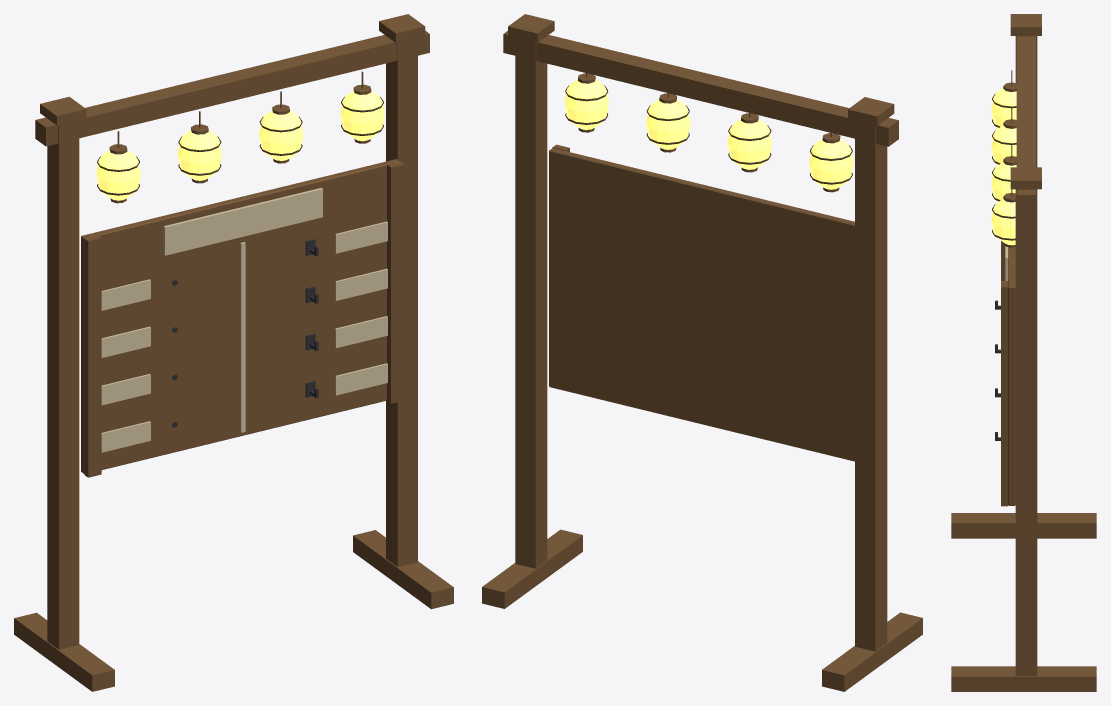
The model's file is Prop_YTM_LanternBoard.glb.
The picture shows the model from 3 angles, left to right: view 1: azimuth 30°, elevation 25°; view 2: azimuth 150°, elevation 25°; view 3: azimuth 270°, elevation 25°; orthographic projection. The views are drawn at different scales.
Parts seen in each view (by area): view 1: Prop_YTM_LanternBoard, Prop_YTM_LanternBoard_Lanterns; view 2: Prop_YTM_LanternBoard, Prop_YTM_LanternBoard_Lanterns; view 3: Prop_YTM_LanternBoard, Prop_YTM_LanternBoard_Lanterns.
Boxes of the visible parts, <box> form: Prop_YTM_LanternBoard: <box>14,14,453,691</box>; Prop_YTM_LanternBoard_Lanterns: <box>96,71,384,203</box>; Prop_YTM_LanternBoard: <box>482,14,922,691</box>; Prop_YTM_LanternBoard_Lanterns: <box>564,73,853,192</box>; Prop_YTM_LanternBoard: <box>951,14,1096,691</box>; Prop_YTM_LanternBoard_Lanterns: <box>991,70,1016,247</box>.
Size of what is drawn, in the model's own units: 1.7 by 2.34 by 0.6.
